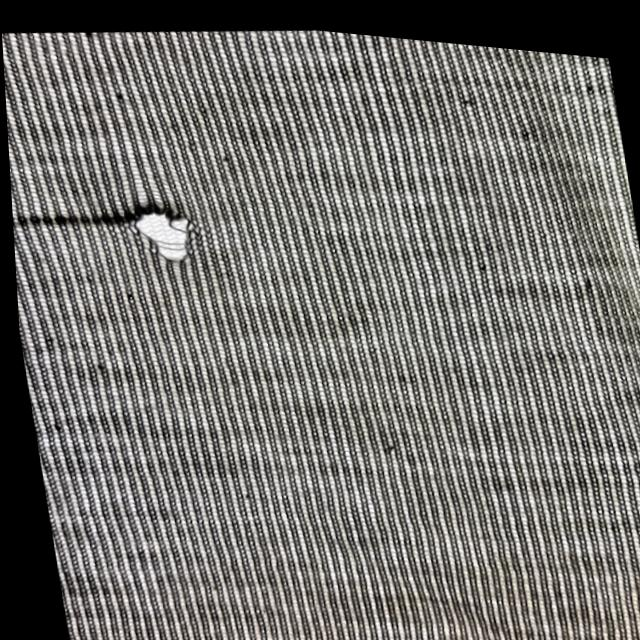Hole: (110, 187, 210, 277)
